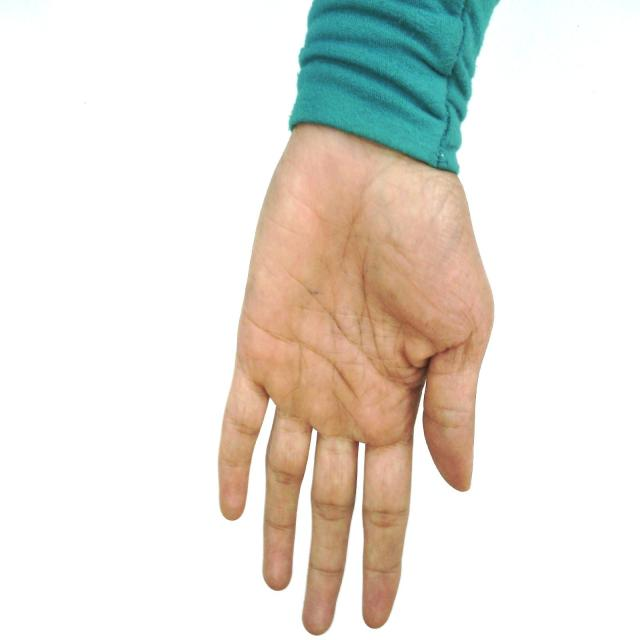hand: (228, 156, 485, 633)
